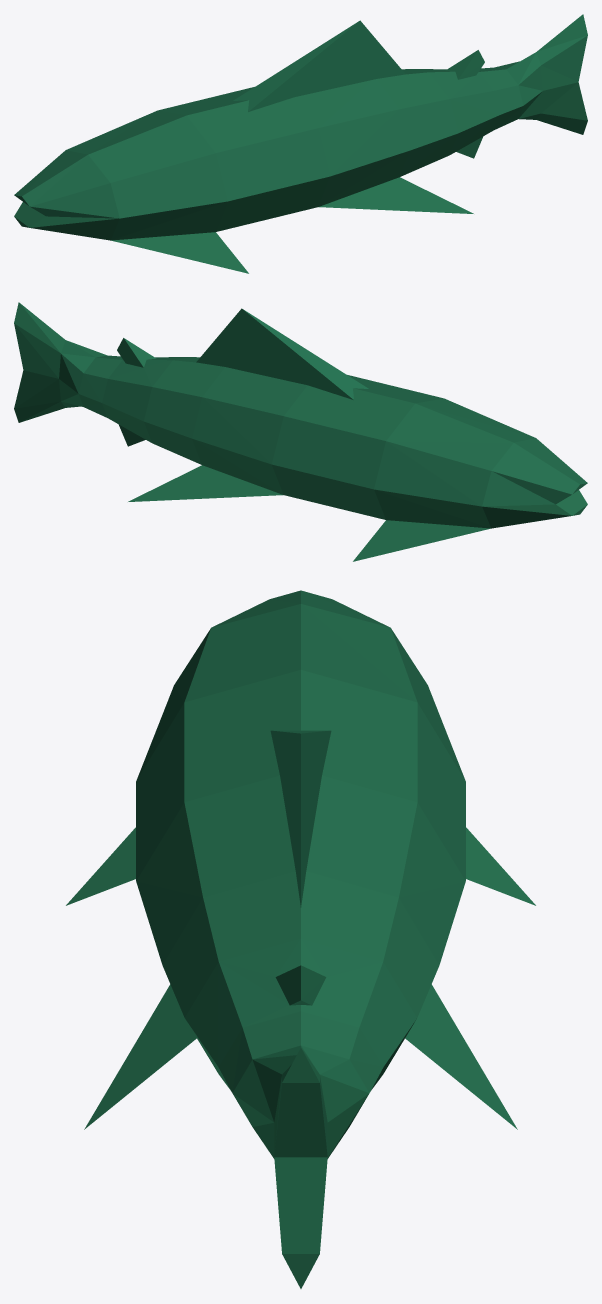
File: fish-mint.glb
The picture shows the model from 3 angles, top to bottom: view 1: azimuth 30°, elevation 25°; view 2: azimuth 150°, elevation 25°; view 3: azimuth 270°, elevation 25°; orthographic projection. The views are drawn at different scales.
Parts seen in each view (by area): view 1: fish-mint; view 2: fish-mint; view 3: fish-mint.
Boxes of the visible parts, x1,y1,x2,y2 form: fish-mint: (14, 14, 587, 273); fish-mint: (14, 302, 587, 561); fish-mint: (66, 590, 535, 1288).
Size of the model in its own units: 0.66 by 0.19 by 0.24.
